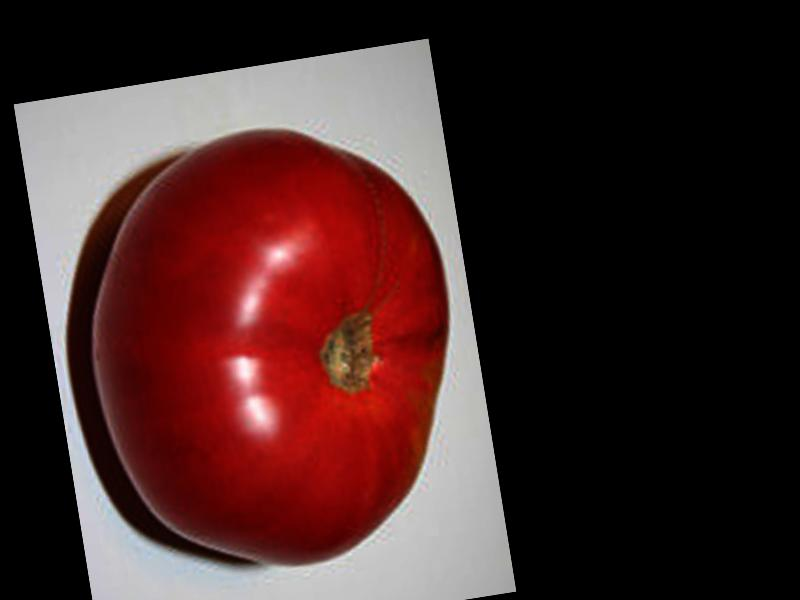Tomato: (70, 102, 490, 593)
